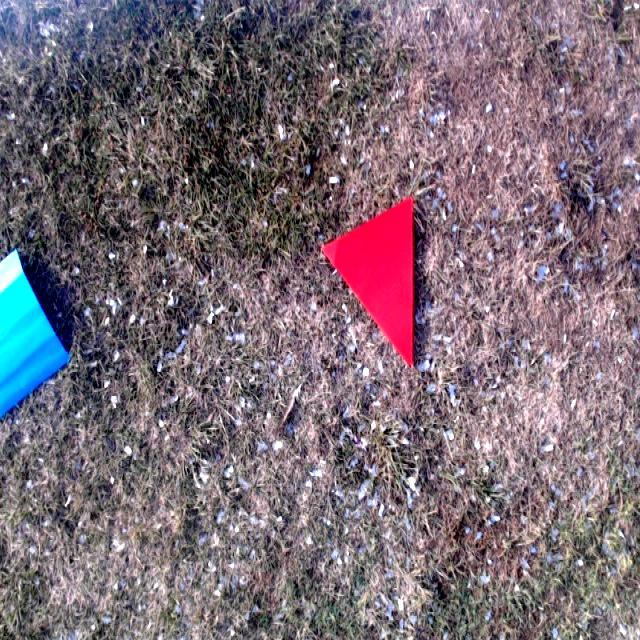red_triangle: (320, 190, 414, 368)
